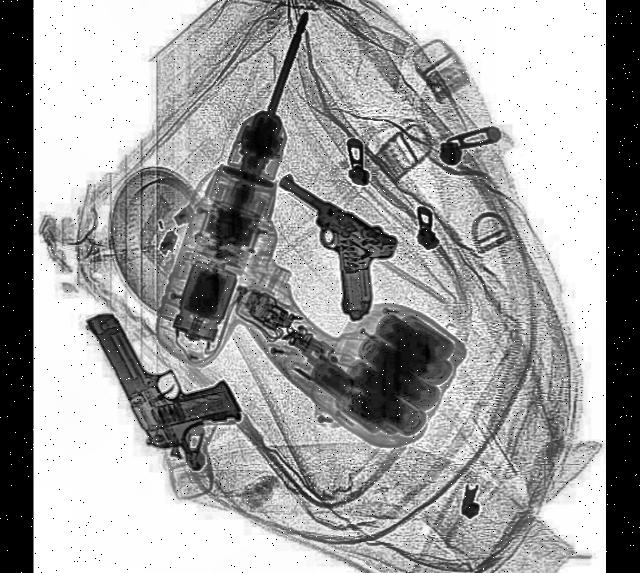Gun: (86, 257, 250, 482), (249, 167, 402, 326)
